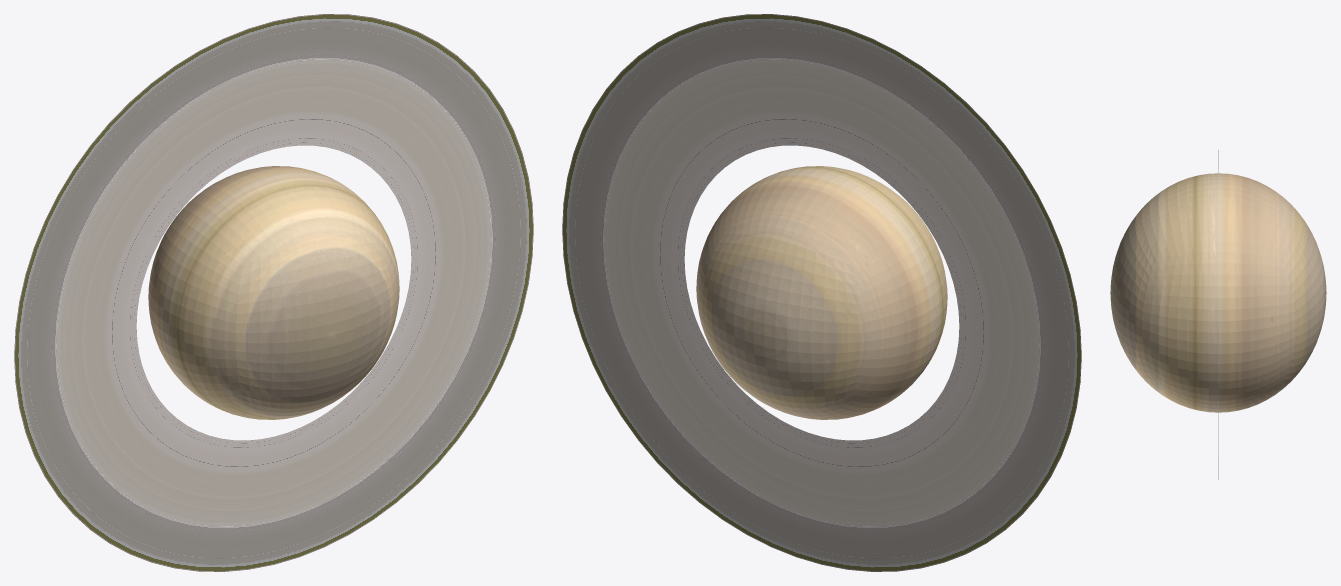
Rendered from saturn.obj.
3 renders of one model, left to right at view 1: azimuth 30°, elevation 25°; view 2: azimuth 150°, elevation 25°; view 3: azimuth 270°, elevation 25°, orthographic. The views are drawn at different scales.
Parts seen in each view (by area): view 1: Object.2, Object.1; view 2: Object.2, Object.1; view 3: Object.1.
Part boxes in pixels (<box>): Object.2: <box>14,14,533,571</box>; Object.1: <box>148,166,399,419</box>; Object.2: <box>562,14,1081,571</box>; Object.1: <box>696,166,947,419</box>; Object.1: <box>1110,173,1326,412</box>.
Size of the model in its own units: 2330901 by 2330900 by 902038.
